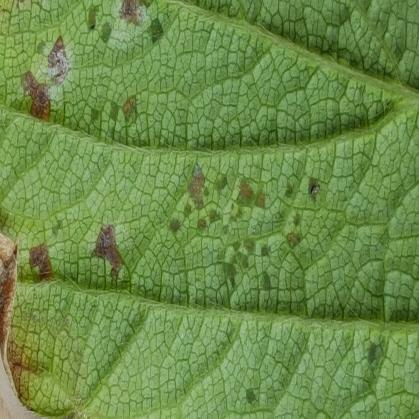Angular Leafspot: (0, 0, 397, 418)
